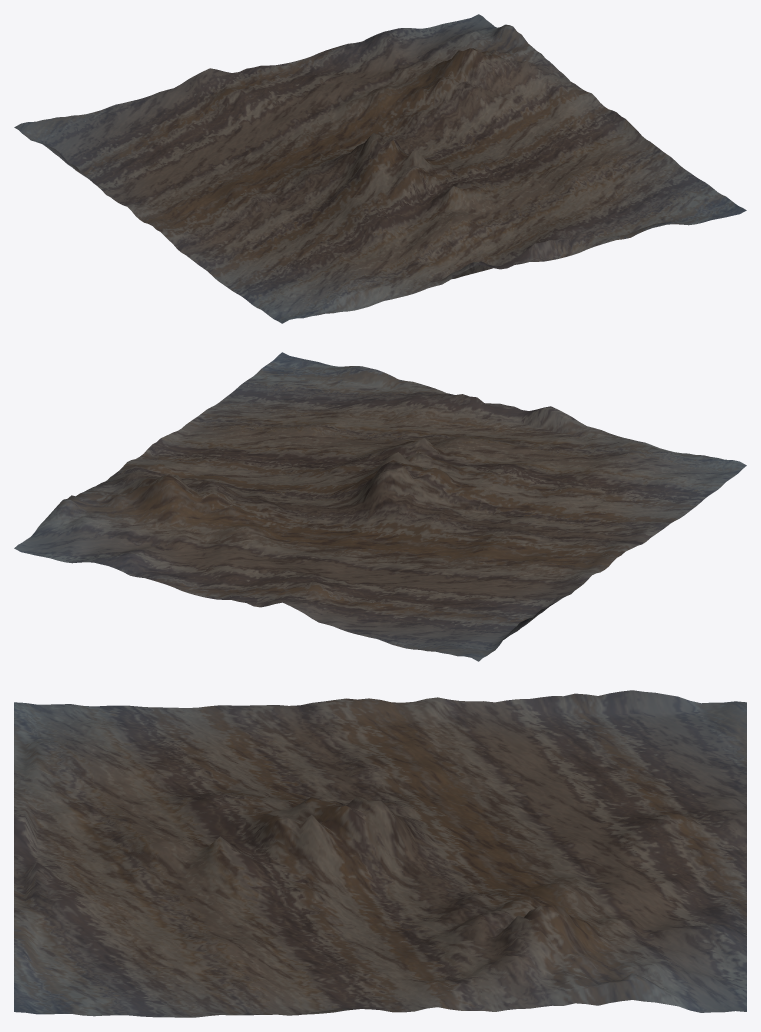
File: floor.obj
3 renders of one model, top to bottom at view 1: azimuth 30°, elevation 25°; view 2: azimuth 150°, elevation 25°; view 3: azimuth 270°, elevation 25°, orthographic. The views are drawn at different scales.
Parts seen in each view (by area): view 1: Environment_Plane.003; view 2: Environment_Plane.003; view 3: Environment_Plane.003.
Boxes of the visible parts, box(x1,y1,x2,y2) form: Environment_Plane.003: box(14, 14, 746, 323); Environment_Plane.003: box(14, 352, 746, 661); Environment_Plane.003: box(14, 690, 746, 1017).
Size of the model in its own units: 110 by 9.99 by 110.
